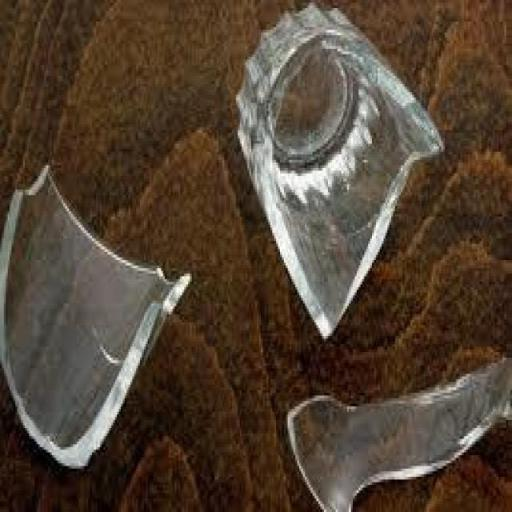glass: (224, 0, 452, 350), (0, 142, 204, 494), (261, 344, 512, 512)
